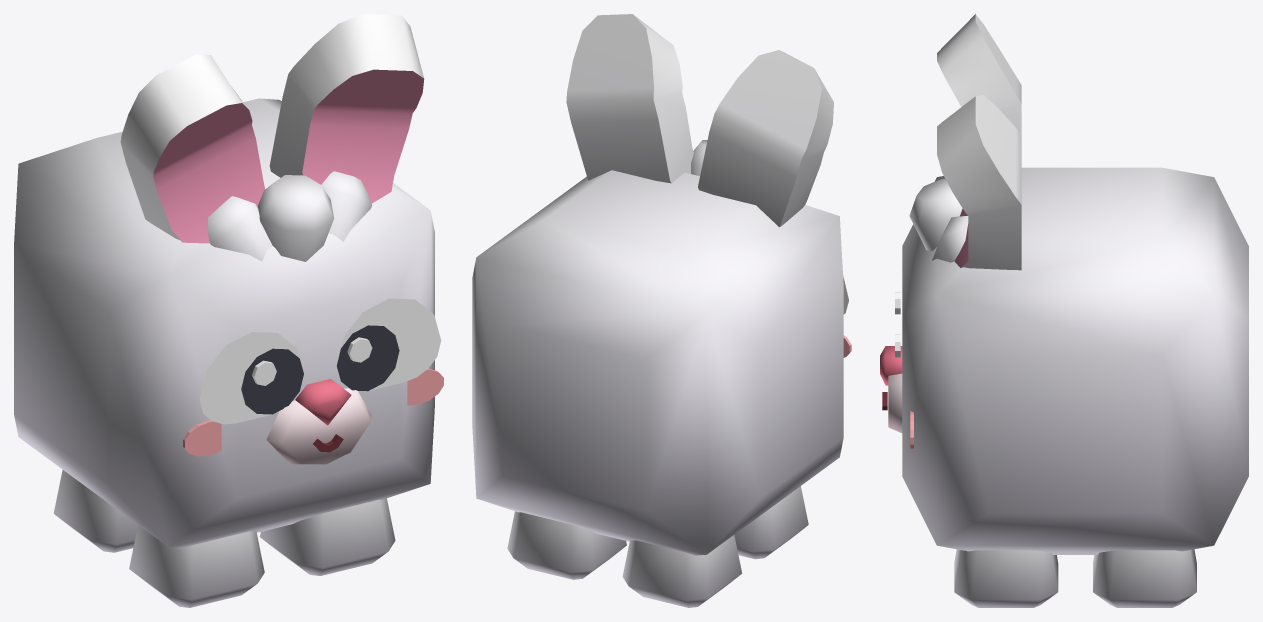
Rendered from bunny.glb.
3 renders of one model, left to right at view 1: azimuth 30°, elevation 25°; view 2: azimuth 150°, elevation 25°; view 3: azimuth 270°, elevation 25°, orthographic. The views are drawn at different scales.
Parts seen in each view (by area): view 1: body, leg-front-right, leg-front-left, leg-back-right; view 2: body, leg-back-right, leg-back-left, leg-front-right; view 3: body, leg-front-left, leg-back-left.
Part boxes in pixels (x1,y1,x2,y2): body: (14, 14, 443, 548); leg-front-right: (129, 525, 264, 607); leg-front-left: (260, 498, 395, 575); leg-back-right: (53, 470, 137, 552); body: (472, 14, 851, 555); leg-back-right: (622, 535, 742, 607); leg-back-left: (507, 511, 626, 579); leg-front-right: (734, 486, 808, 559); body: (880, 14, 1248, 554); leg-front-left: (954, 549, 1058, 607); leg-back-left: (1093, 549, 1196, 607).
Bounding box in the file's own units: 1.25 × 2.01 × 1.33.
1 material, 1 textured.
